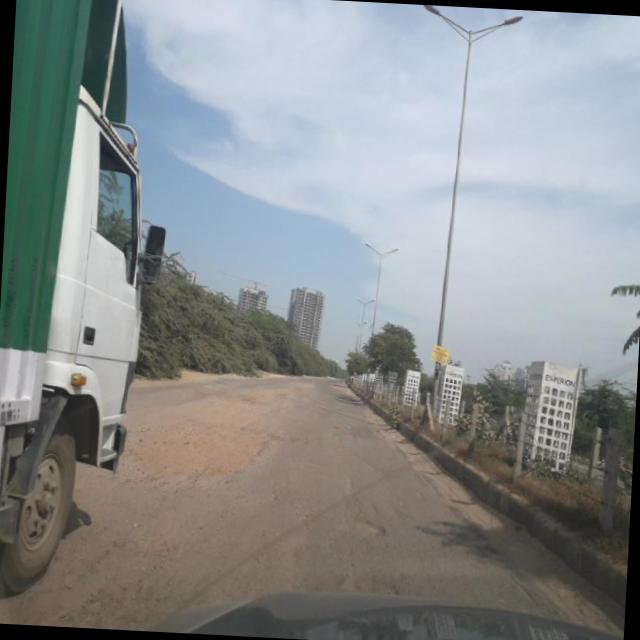pothole: (40, 511, 190, 632), (127, 390, 280, 504), (332, 506, 388, 547), (340, 560, 396, 601)
